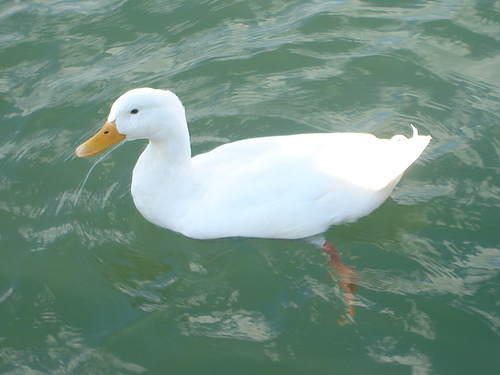duck: (59, 59, 448, 338)
